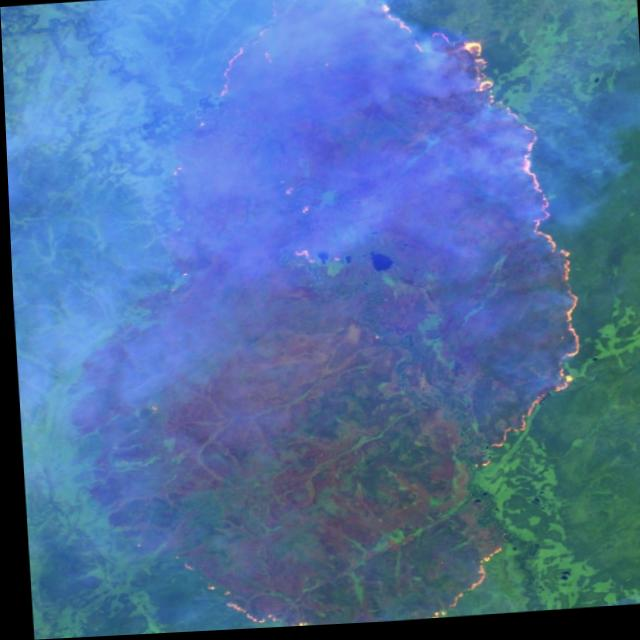fire: (142, 0, 597, 634)
